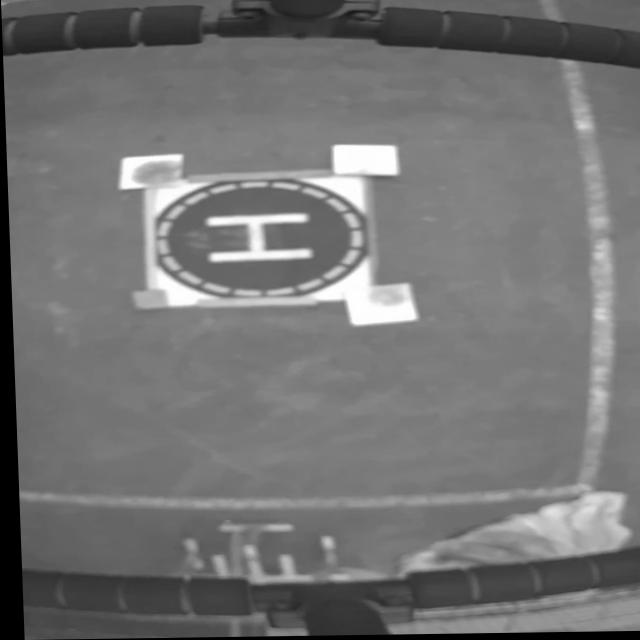Helipad: (202, 213, 310, 265)
